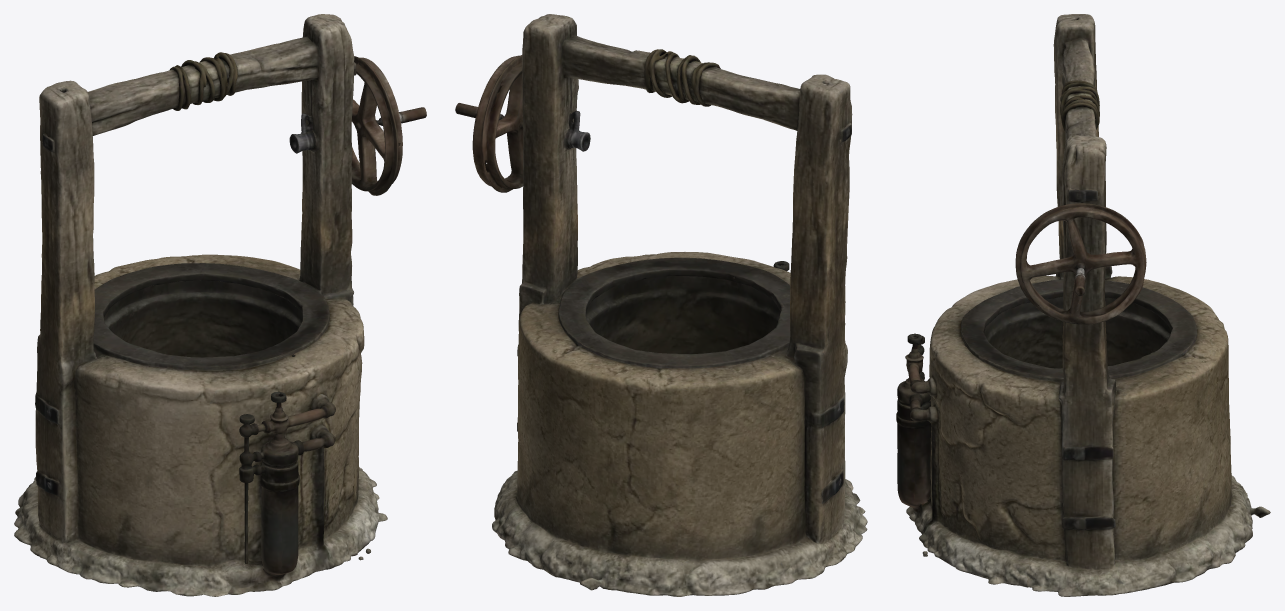
File: well.glb
3 views of the same model, side by side, from view 1: azimuth 30°, elevation 25°; view 2: azimuth 150°, elevation 25°; view 3: azimuth 270°, elevation 25° (orthographic). The views are drawn at different scales.
Visible parts, largest first — view 1: world; view 2: world; view 3: world.
Boxes of the visible parts, x1=… form: world: x1=14, y1=14, x2=426, y2=596; world: x1=455, y1=14, x2=867, y2=596; world: x1=896, y1=14, x2=1270, y2=596.
Bounding box in the file's own units: 0.8674 × 1 × 0.7751.
1 material, 1 textured.
